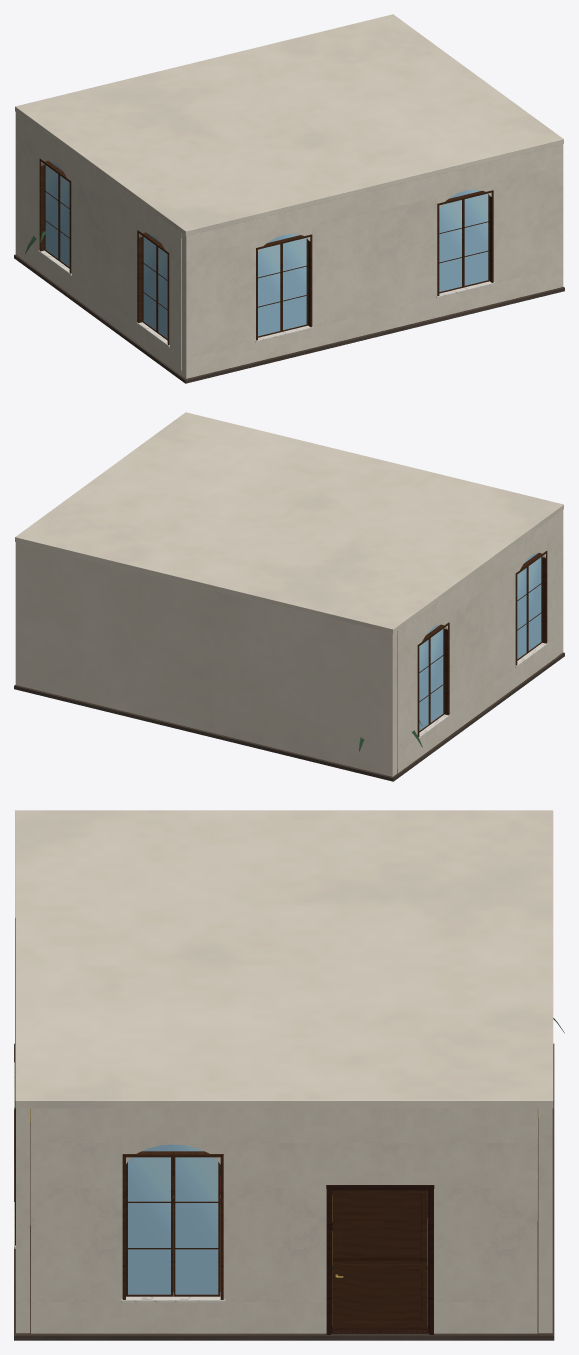
File: desktop.glb
The picture shows the model from 3 angles, top to bottom: view 1: azimuth 30°, elevation 25°; view 2: azimuth 150°, elevation 25°; view 3: azimuth 270°, elevation 25°; orthographic projection. The views are drawn at different scales.
Visible parts, largest first — view 1: BG_Ceiling, BG_Wall_South, BG_Wall_West, BG_Floor, BG_Wall_North; view 2: BG_Ceiling, BG_Wall_North, BG_Wall_West, BG_Floor, BG_Wall_South; view 3: BG_Ceiling, BG_Wall_East, BG_Floor, BG_Wall_South, BG_Wall_North.
Part boxes in pixels (box(x1,y1,x2,y2)): BG_Ceiling: box(15, 14, 563, 235); BG_Wall_South: box(181, 144, 563, 378); BG_Wall_West: box(20, 115, 181, 375); BG_Floor: box(14, 254, 564, 383); BG_Wall_North: box(15, 112, 20, 256); BG_Ceiling: box(15, 412, 563, 633); BG_Wall_North: box(15, 542, 397, 776); BG_Wall_West: box(397, 513, 558, 773); BG_Floor: box(14, 652, 564, 781); BG_Wall_South: box(558, 510, 563, 654); BG_Ceiling: box(15, 810, 553, 1108); BG_Wall_East: box(31, 1108, 537, 1334); BG_Floor: box(14, 1043, 554, 1340); BG_Wall_South: box(14, 918, 30, 1333); BG_Wall_North: box(537, 1108, 552, 1333).
Bounding box in the file's own units: 11.77 × 4.4 × 9.18.
4 materials, 4 textured.
